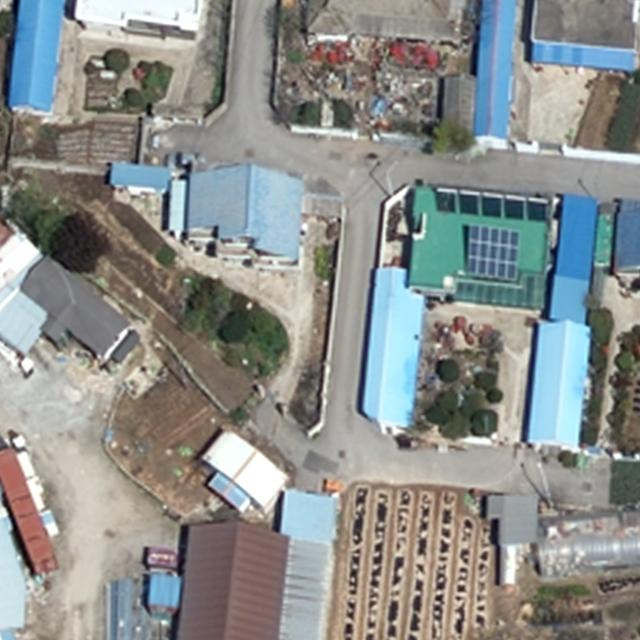panel: (463, 224, 519, 280)
